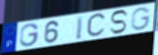6: (44, 19, 61, 44)
C: (85, 11, 108, 40)
G: (18, 23, 40, 48), (131, 6, 152, 31)
I: (75, 15, 85, 41)
S: (109, 9, 129, 35)
